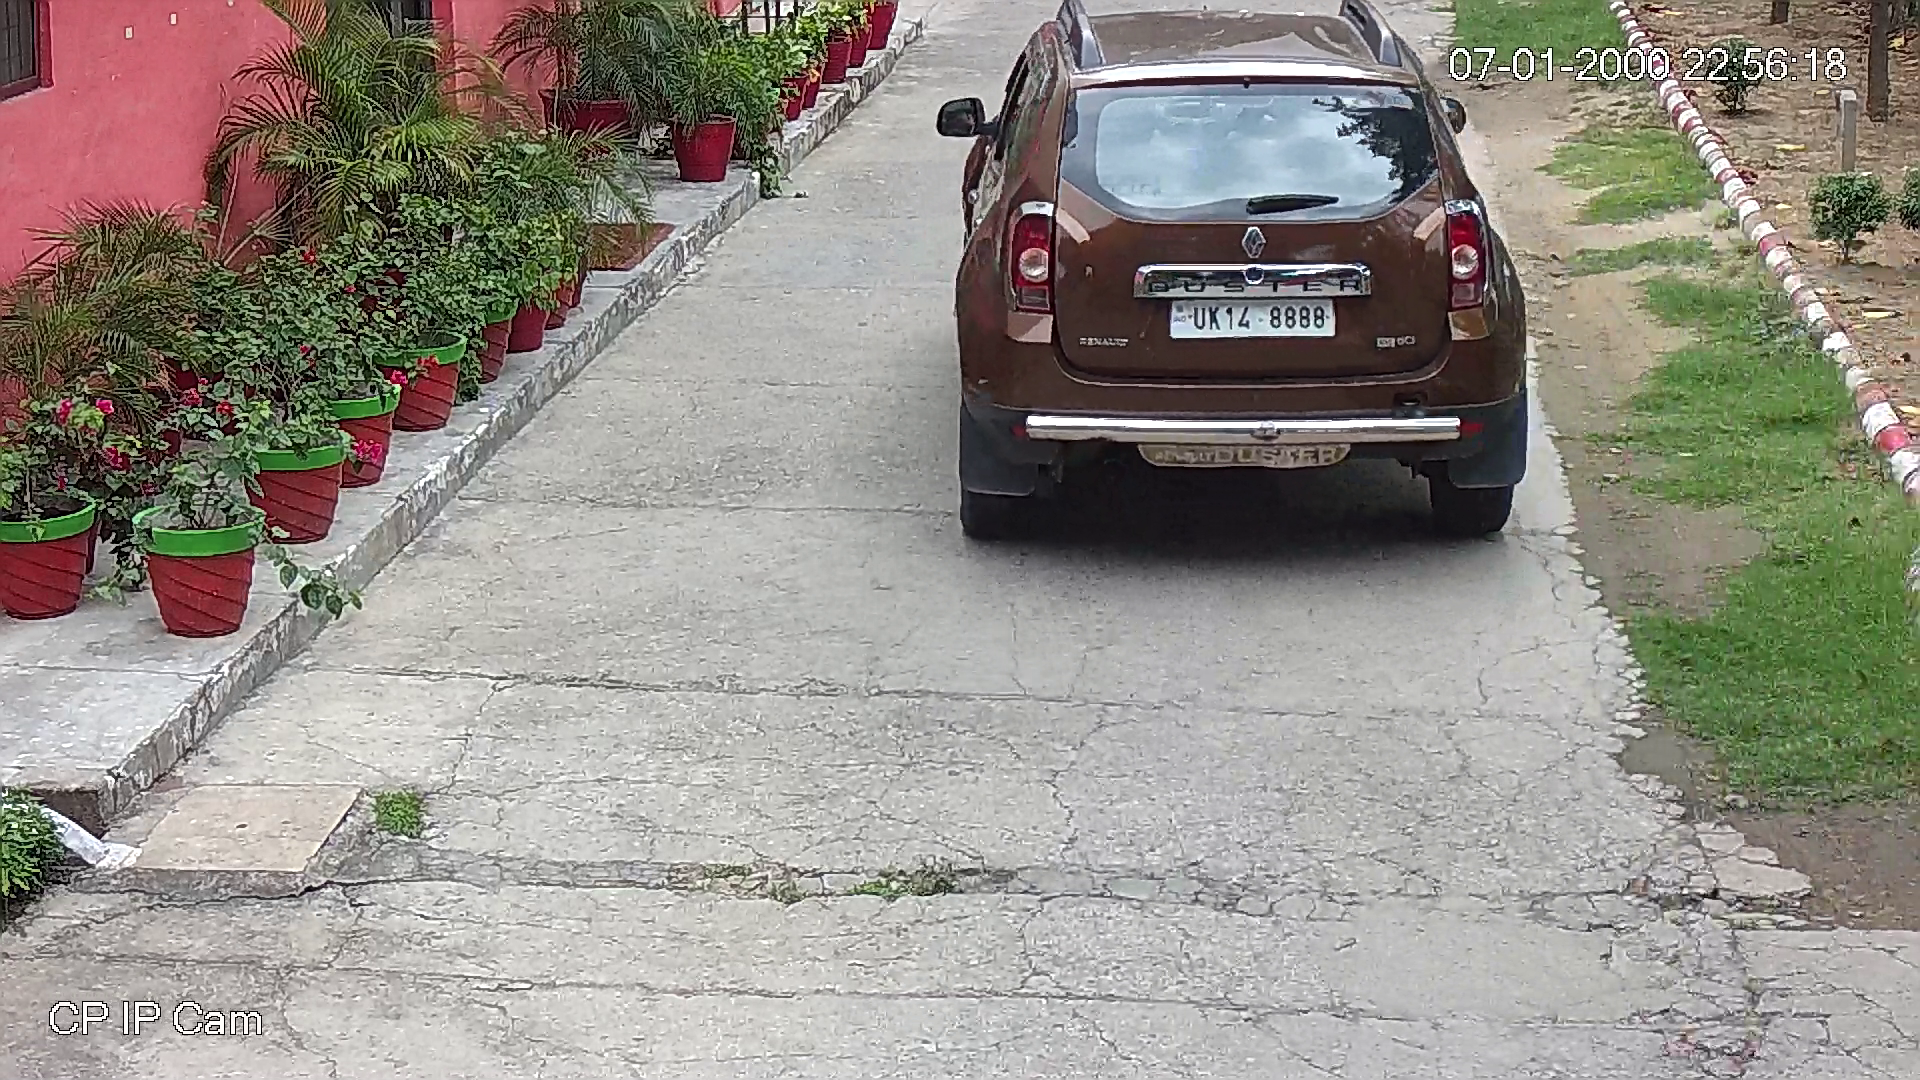plate: (1167, 293, 1343, 337)
